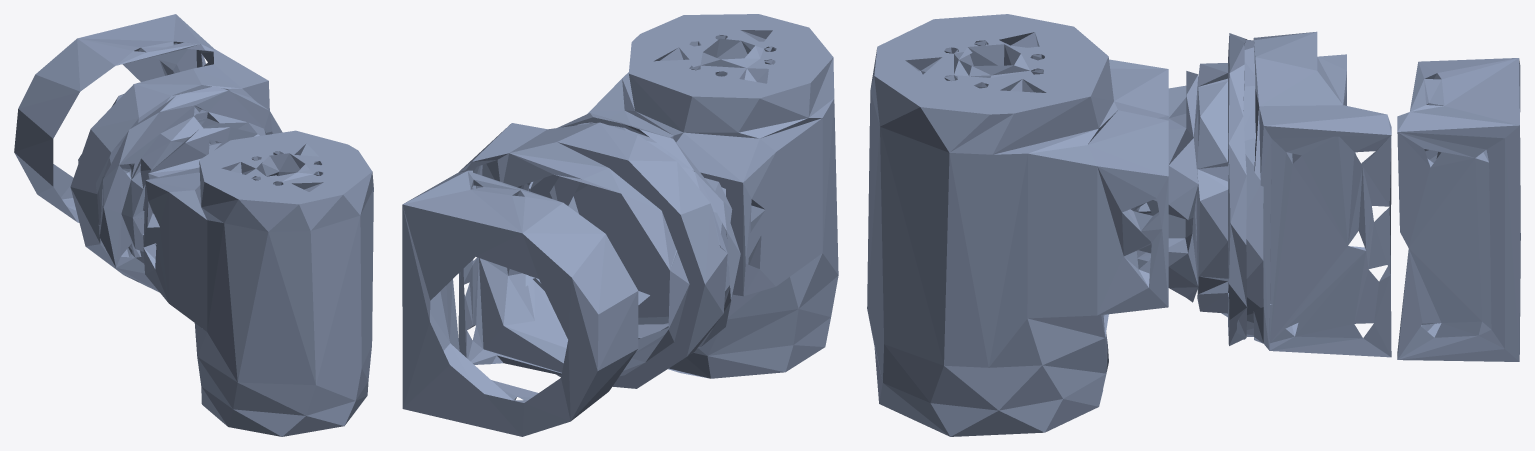
File: r_elbow_flection.dae
The picture shows the model from 3 angles, left to right: view 1: azimuth 30°, elevation 25°; view 2: azimuth 150°, elevation 25°; view 3: azimuth 270°, elevation 25°; orthographic projection. The views are drawn at different scales.
Visible parts, largest first — view 1: M4R; view 2: M4R; view 3: M4R.
Boxes of the visible parts, box(x1,y1,x2,y2) form: M4R: box(14, 14, 373, 436); M4R: box(402, 14, 838, 436); M4R: box(867, 14, 1520, 436).
Bounding box in the file's own units: 0.0521 × 0.11 × 0.0634.
